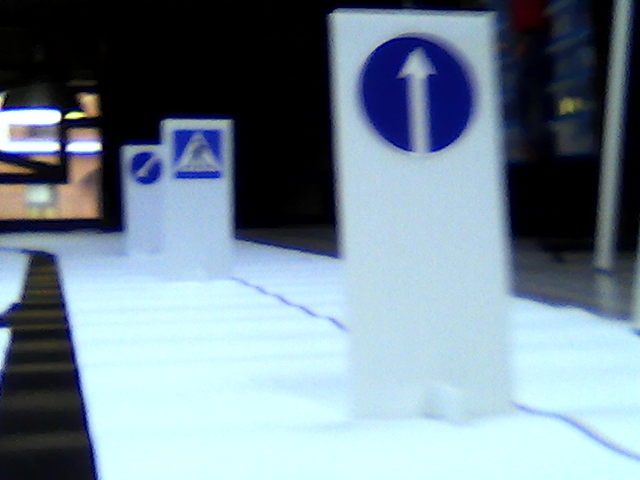forw: (358, 30, 476, 153)
pesh: (174, 125, 220, 180)
prep: (129, 148, 163, 183)
